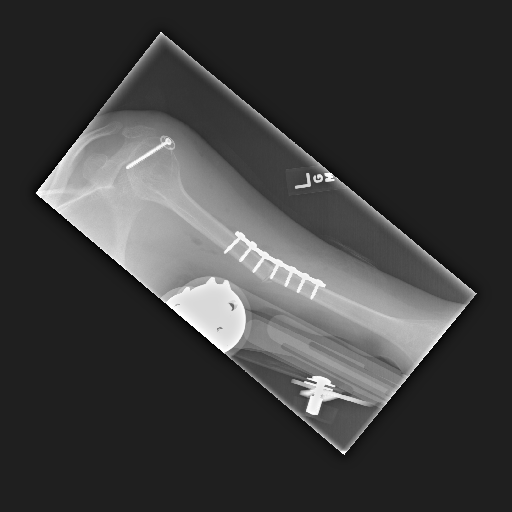implant: (218, 226, 328, 301), (286, 367, 353, 417), (123, 133, 177, 180)
